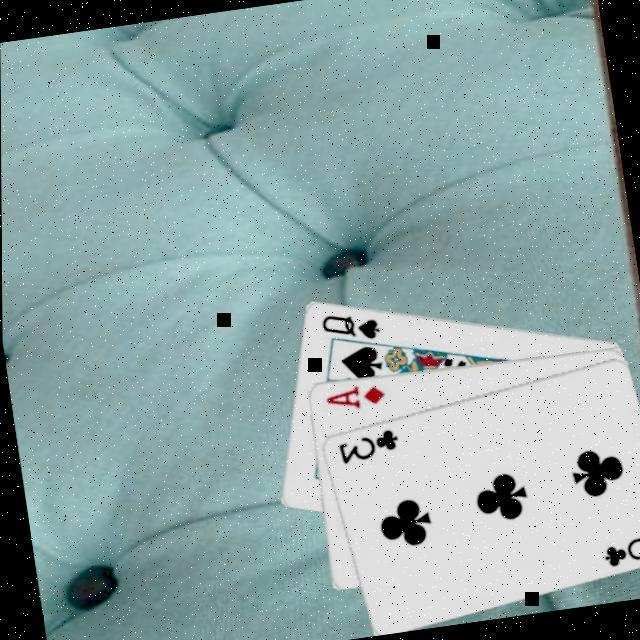3C: (334, 425, 404, 468), (598, 529, 640, 571)
AD: (323, 379, 390, 416)
QS: (318, 305, 386, 350)
